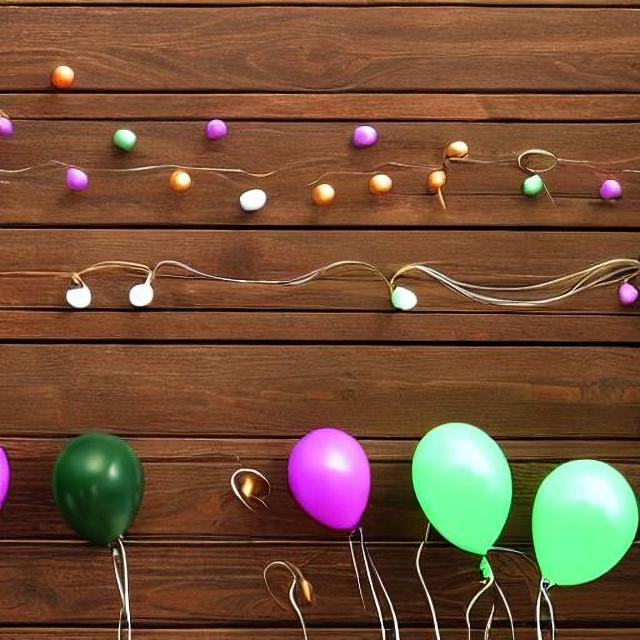balloon: (409, 418, 516, 612), (530, 449, 640, 593), (55, 416, 144, 563), (280, 424, 384, 534), (384, 280, 427, 315), (64, 280, 104, 310), (513, 172, 553, 199), (125, 277, 156, 311), (366, 171, 400, 201), (351, 120, 381, 152), (240, 185, 272, 214), (60, 166, 94, 193), (308, 178, 336, 208), (48, 62, 76, 91), (110, 126, 138, 154), (164, 166, 192, 194), (448, 138, 474, 167), (201, 116, 229, 142), (610, 284, 638, 310), (599, 174, 623, 202), (429, 166, 448, 192), (0, 111, 12, 132)
